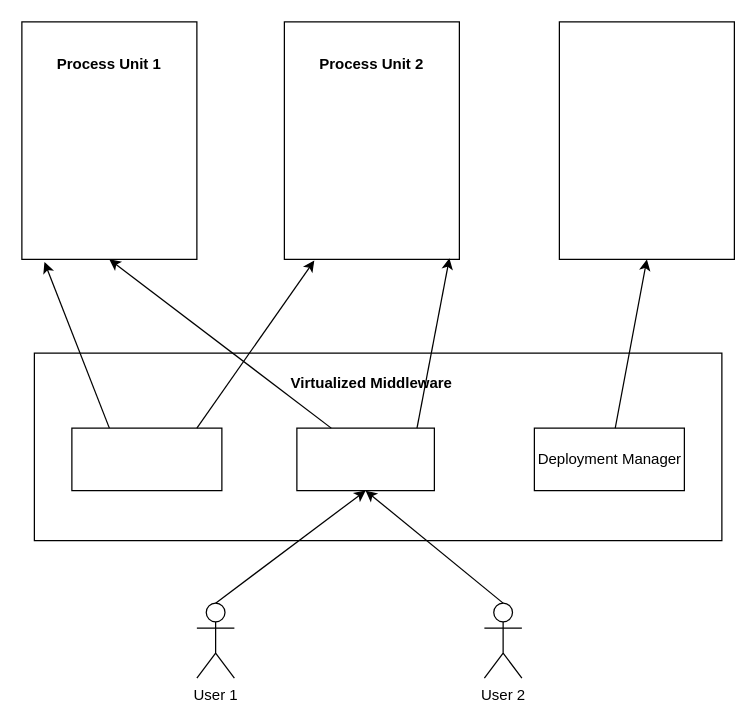
Some shapes in this 756 by 726 pixel diagram are drawn without their labels. Each missing label, with the centre of its shape:
Data Grid: the point at 146,459
Messaging Grid: the point at 365,459
Process Unit 3: the point at 646,140
